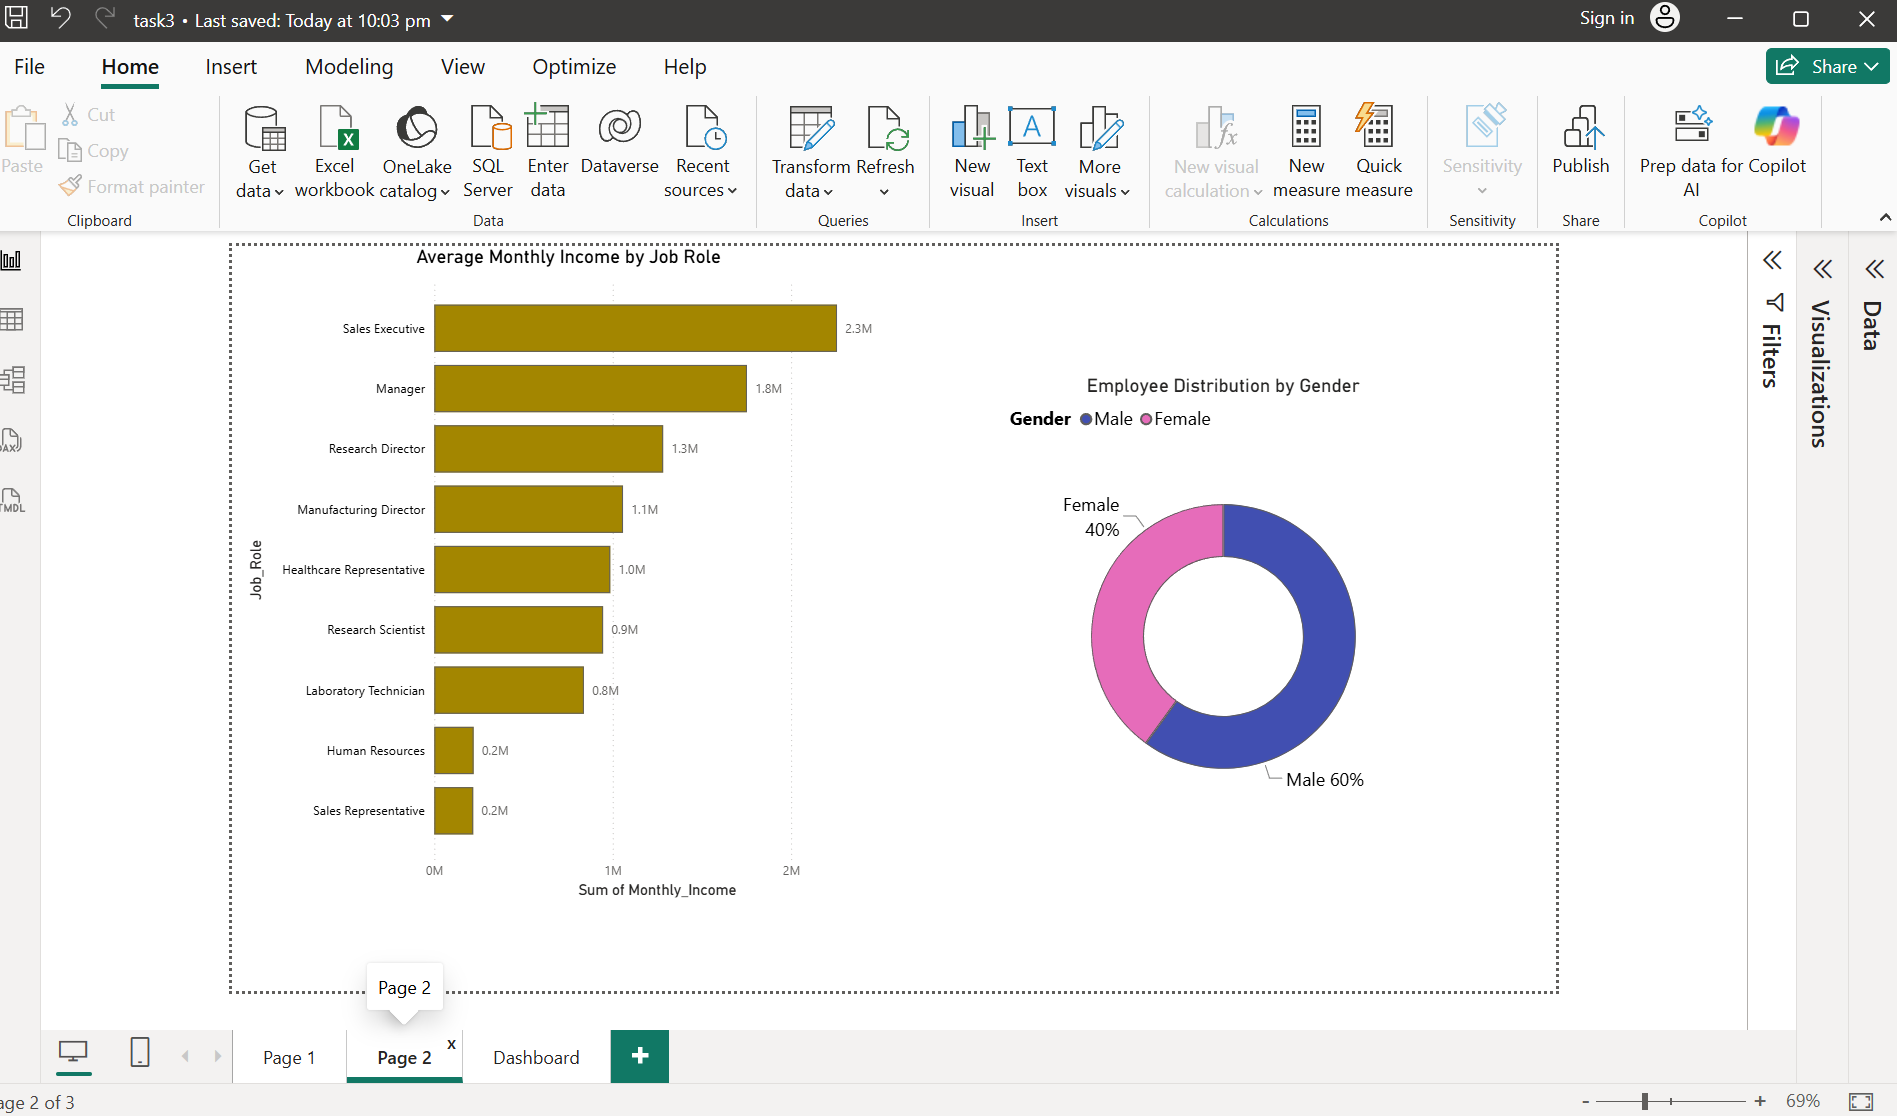

The page's visual inventory and layout, read from the dashboard file:
{"tool":"powerbi","page":{"name":"Page 2","canvas":[1280,720],"ordinal":1},"visuals":[{"type":"clusteredBarChart","title":"Average Monthly Income by Job Role","fields":{"Category":["hr dataset.Job_Role"],"Y":["Sum(hr dataset.Monthly_Income)"]},"box":[10.6,0,629.9,634.5],"z":0},{"type":"donutChart","title":"Employee Distribution by Gender","fields":{"Y":["CountNonNull(hr dataset.Employee_Number)"],"Category":["hr dataset.Gender"]},"box":[746.5,124.2,422.5,451.2],"z":1000}]}

Visuals, with their boxes on the page's 1280x720 design canvas (x1, y1, x2, y2). These are canvas units, not pixel positions in the 1897x1116 screenshot, which may show the page scaled, cropped or inside an application window:
"Average Monthly Income by Job Role" clusteredBarChart: 11,0,640,634
"Employee Distribution by Gender" donutChart: 746,124,1169,575
